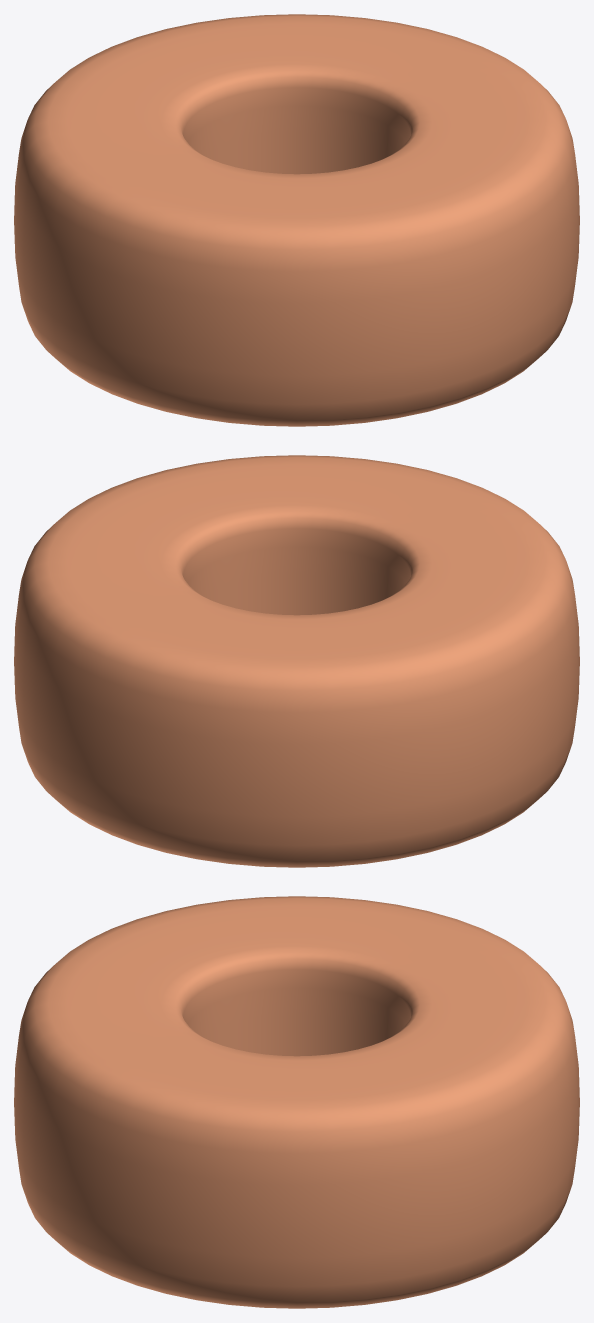
Rendered from cilindro6.gltf.
The picture shows the model from 3 angles, top to bottom: view 1: azimuth 30°, elevation 25°; view 2: azimuth 150°, elevation 25°; view 3: azimuth 270°, elevation 25°; orthographic projection.
Visible parts, largest first — view 1: Cylinder; view 2: Cylinder; view 3: Cylinder.
Boxes of the visible parts, x1=… form: Cylinder: x1=14, y1=14, x2=579, y2=426; Cylinder: x1=14, y1=455, x2=579, y2=867; Cylinder: x1=14, y1=896, x2=579, y2=1308.
Bounding box in the file's own units: 0.0775 × 0.0301 × 0.0775.
